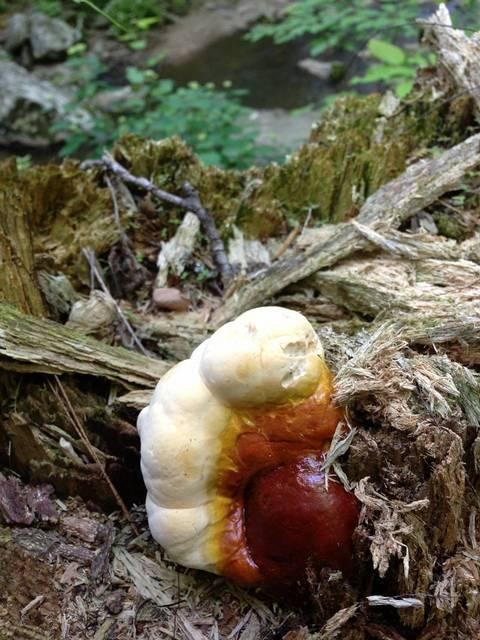poisonous_mushroom: (135, 303, 362, 588)
